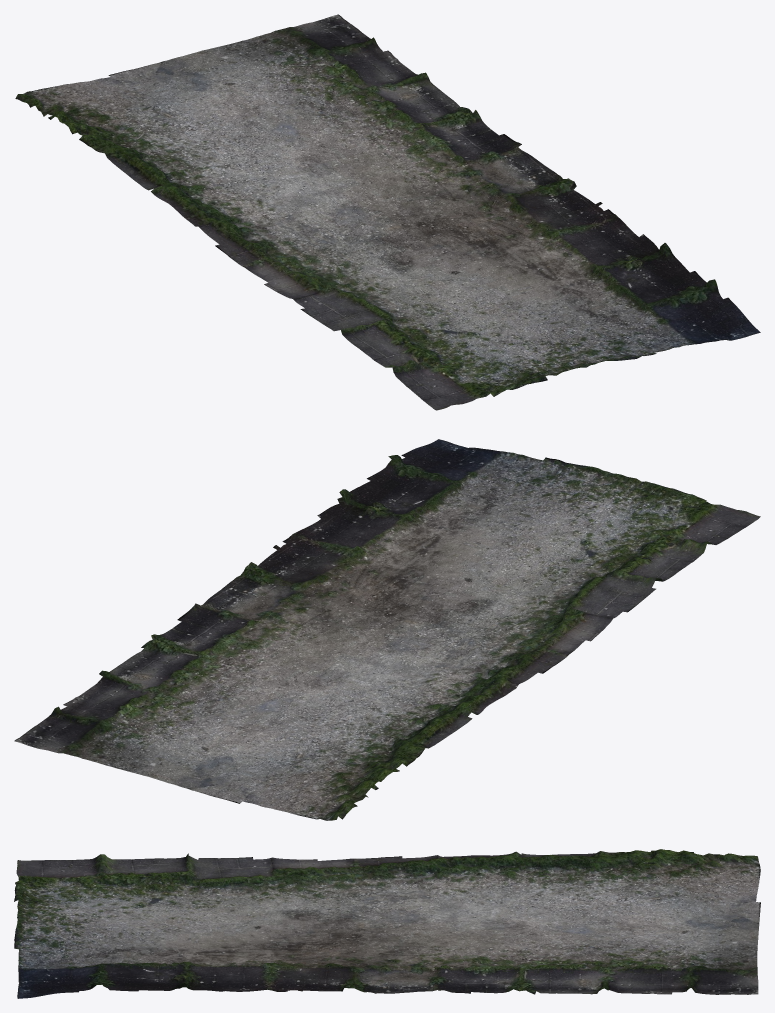
The model's file is gravel_pathway_01_022c0418.glb.
3 renders of one model, top to bottom at view 1: azimuth 30°, elevation 25°; view 2: azimuth 150°, elevation 25°; view 3: azimuth 270°, elevation 25°, orthographic. The views are drawn at different scales.
Parts seen in each view (by area): view 1: gravel_pathway_01_022c0418; view 2: gravel_pathway_01_022c0418; view 3: gravel_pathway_01_022c0418.
Part boxes in pixels (x1,y1,x2,y2): gravel_pathway_01_022c0418: (15,14,760,410); gravel_pathway_01_022c0418: (14,439,760,820); gravel_pathway_01_022c0418: (14,849,760,998).
Bounding box in the file's own units: 2.92 × 0.1788 × 6.6.
Materials: 1 (1 with a texture image).
